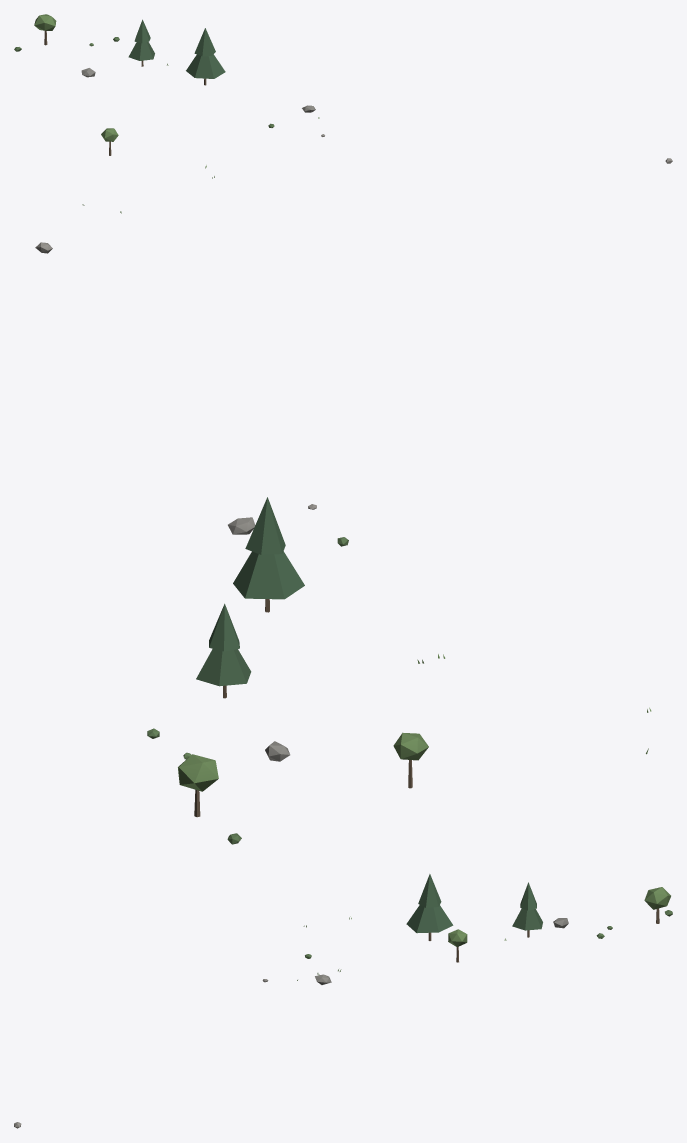
File: arch_land_scatter_c19_20_lod1.glb
3 renders of one model, top to bottom at view 1: azimuth 30°, elevation 25°; view 2: azimuth 150°, elevation 25°; view 3: azimuth 270°, elevation 25°, orthographic. The views are drawn at different scales.
Parts seen in each view (by area): view 1: arch_land_scatter_c19_20_lod1; view 2: arch_land_scatter_c19_20_lod1; view 3: arch_land_scatter_c19_20_lod1.
Part boxes in pixels (bbox=[...]): arch_land_scatter_c19_20_lod1: bbox=[14, 14, 672, 213]; arch_land_scatter_c19_20_lod1: bbox=[35, 242, 651, 844]; arch_land_scatter_c19_20_lod1: bbox=[14, 874, 672, 1128].
Bounding box in the file's own units: 125 × 31.05 × 136.
